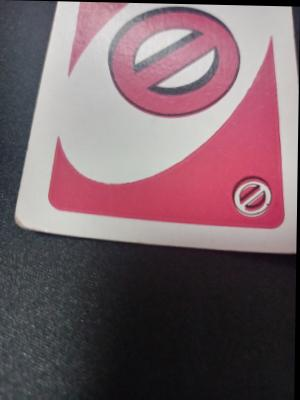skip: (103, 2, 250, 123), (229, 172, 279, 220)
